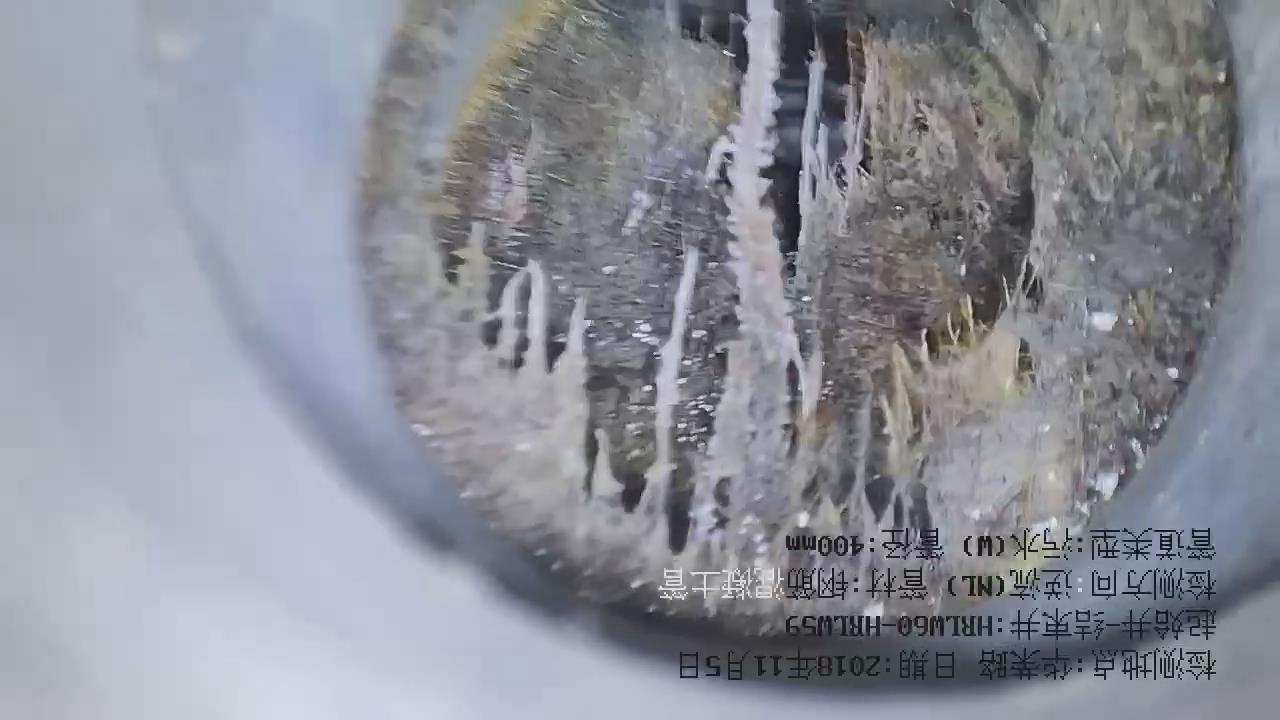SG: (363, 1, 1239, 636)
